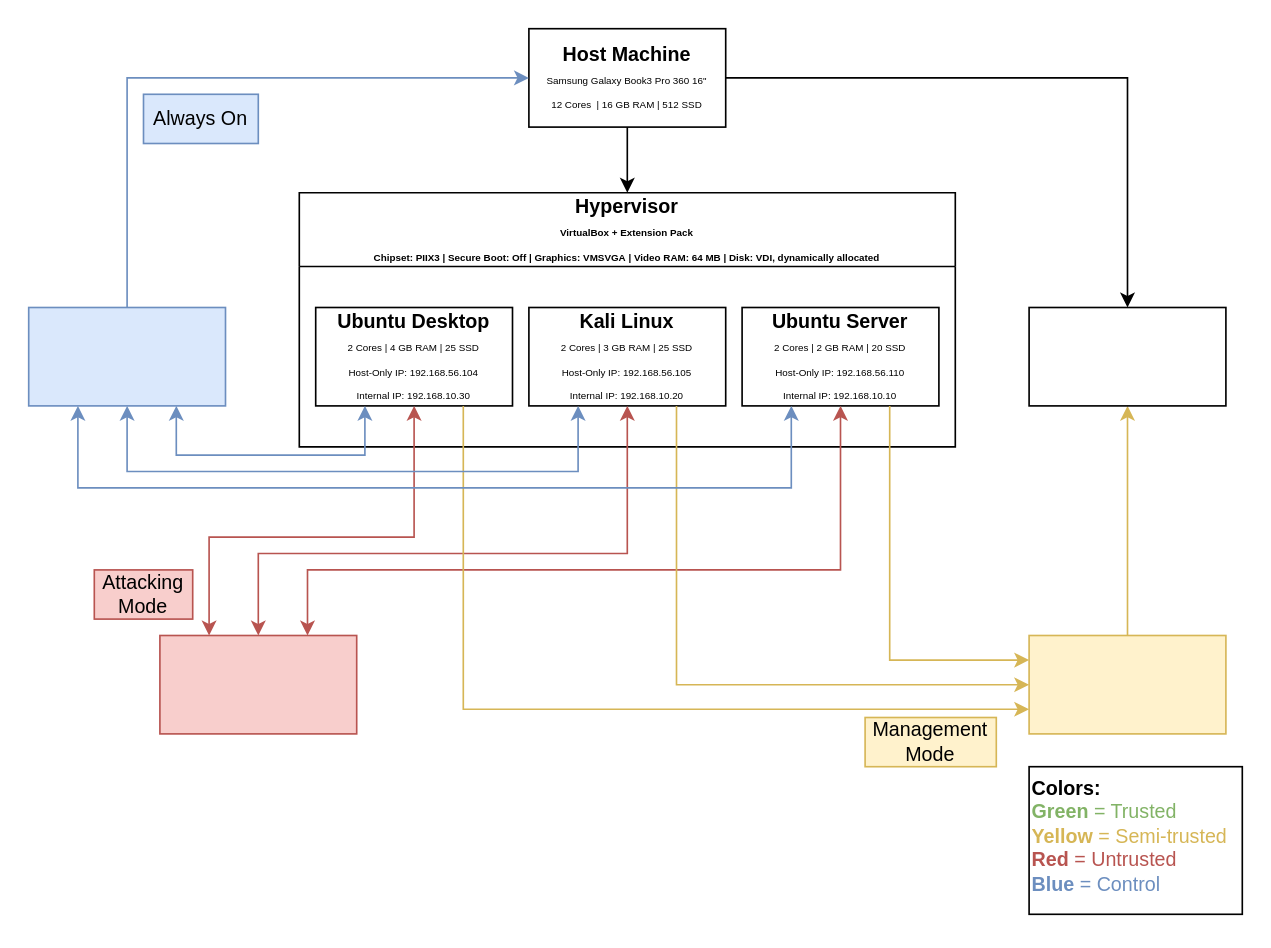
The diagram is 1271 pixels wide and 948 high, and some of its shapes have lost their labels. The shapes that lost their labels are listed below. From the top down, each one's box as (x1, y1, x2, y2) in pixels, then its label:
(27, 306, 226, 406): Host-Only Network DCHP: Enabled | Promiscuous: Allow VMs Subnet: 192.168.56.0/24
(1027, 306, 1226, 406): Internet
(158, 634, 357, 734): Internal Network DCHP: Disabled | Promiscuous: Allow All Subnet: 192.168.10.0/24
(1027, 634, 1226, 734): NAT Network DCHP: Enabled | Promiscuous: Deny Subnet: 10.0.2.0/24
